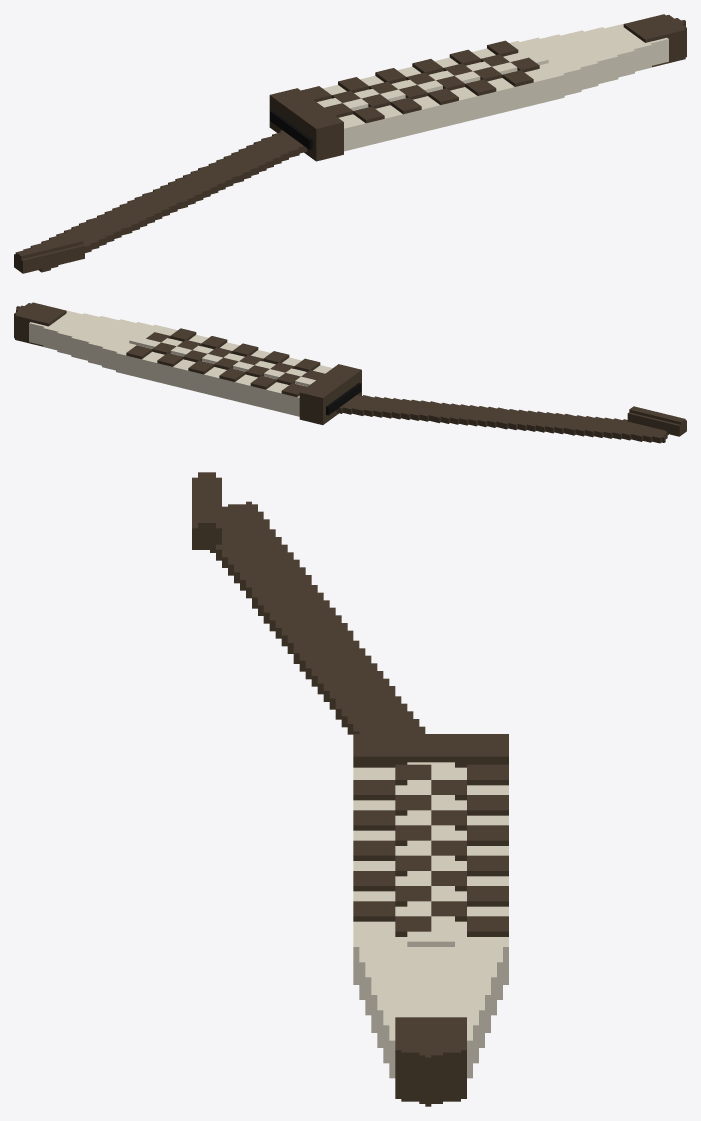
File: sheath_birchbark.glb
3 views of the same model, one above another, from view 1: azimuth 30°, elevation 25°; view 2: azimuth 150°, elevation 25°; view 3: azimuth 270°, elevation 25° (orthographic). The views are drawn at different scales.
Visible parts, largest first — view 1: sheath_birchbark:compound; view 2: sheath_birchbark:compound; view 3: sheath_birchbark:compound.
Part boxes in pixels (bbox=[...]): sheath_birchbark:compound: bbox=[14, 14, 686, 273]; sheath_birchbark:compound: bbox=[14, 302, 686, 443]; sheath_birchbark:compound: bbox=[192, 472, 508, 1106].
Bounding box in the file's own units: 0.472 × 0.02 × 0.106.
